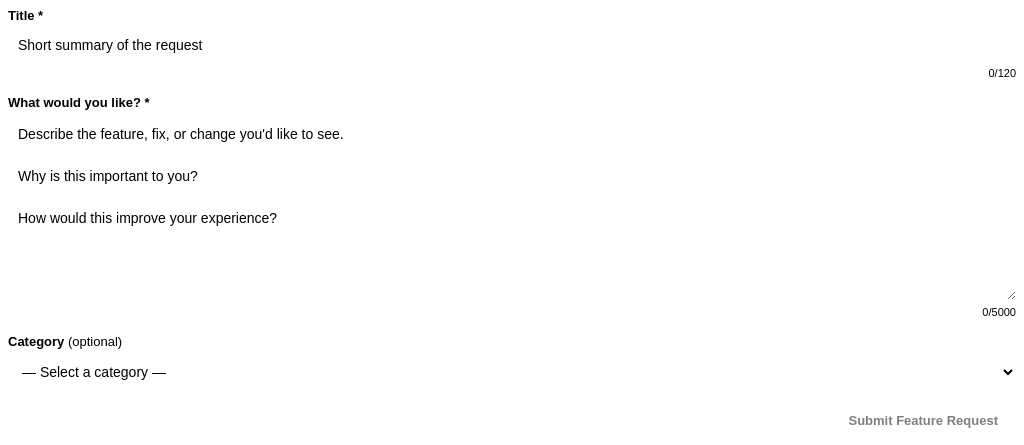
Scenario: FeatureRequestPanel › validation › shows live character counters
Type "abc" into the field labelled "Title *" at coordinates (512, 45), box left=8, top=29, right=1016, bottom=61
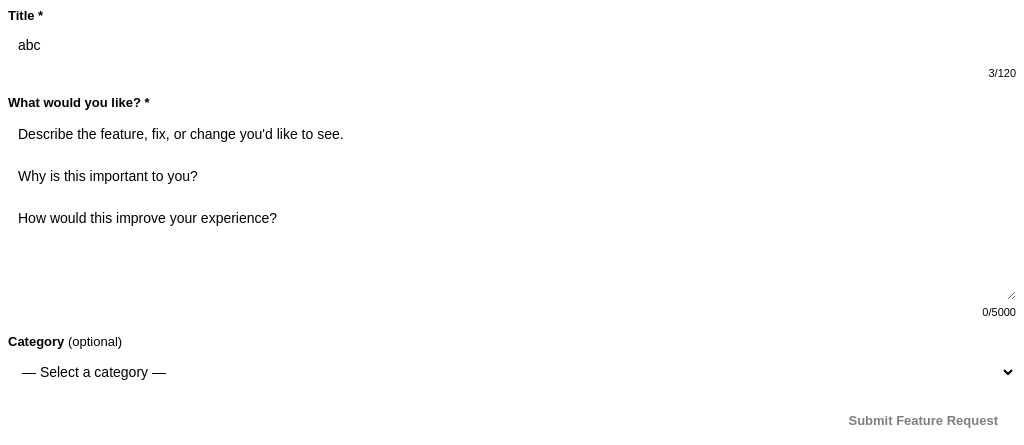
Now the text "3/120" is shown, box left=988, top=67, right=1016, bottom=79
